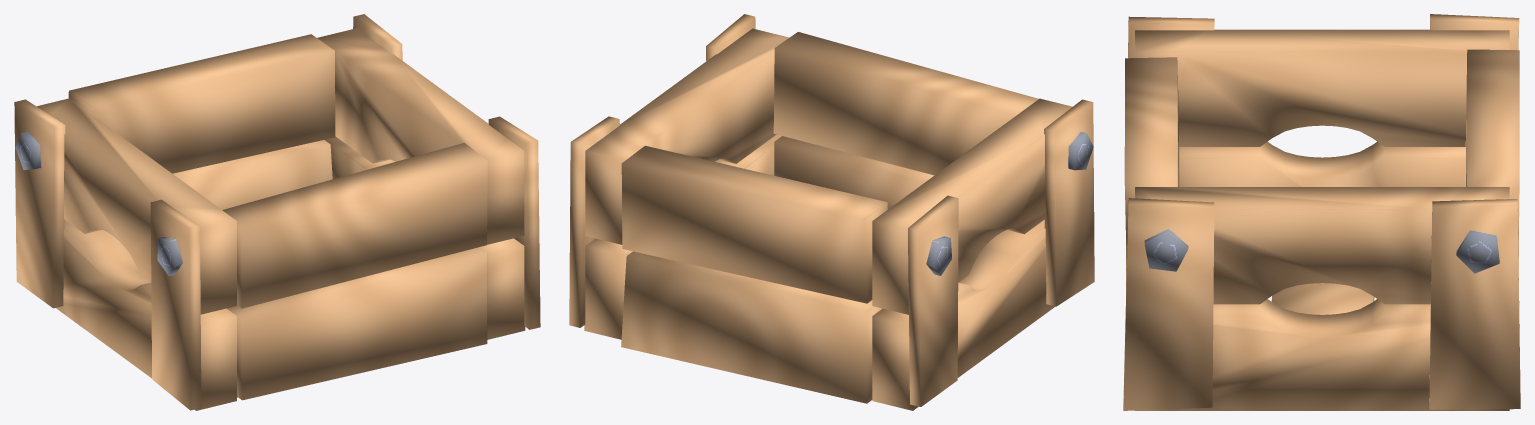
The model's file is Caixa_1_upd.fbx.
3 views of the same model, side by side, from view 1: azimuth 30°, elevation 25°; view 2: azimuth 150°, elevation 25°; view 3: azimuth 270°, elevation 25° (orthographic). The views are drawn at different scales.
Visible parts, largest first — view 1: Caixa 1.L; view 2: Caixa 1.L; view 3: Caixa 1.L.
Boxes of the visible parts, <box> form: Caixa 1.L: <box>14,14,540,410</box>; Caixa 1.L: <box>569,14,1094,410</box>; Caixa 1.L: <box>1123,14,1520,410</box>.
Bounding box in the file's own units: 131 × 67.95 × 111.
